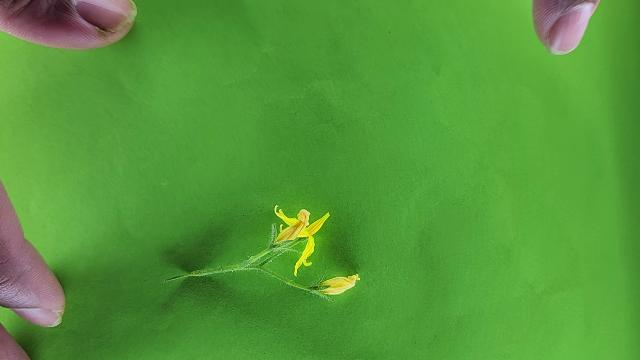Anthesis: (273, 206, 331, 275), (310, 272, 363, 296)
